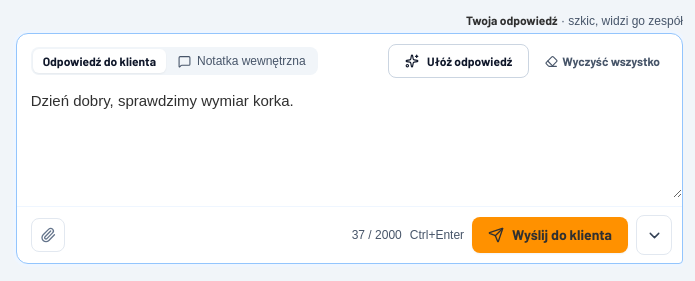
Test case: Szkic Copilota w edytorze › „Wyczyść wszystko” opróżnia pole, a „Cofnij wyczyszczenie” oddaje tekst
Click the button "Wyczyść wszystko" at (603, 61), box [537,45,668,77]
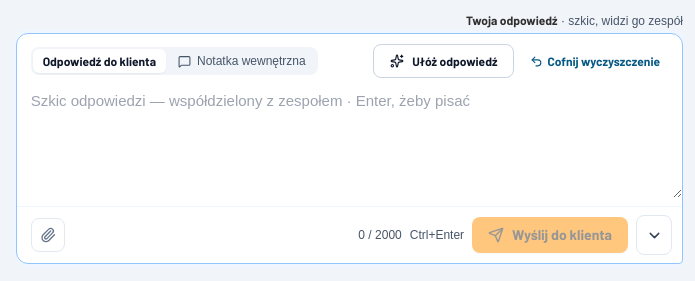
Expected: the text box labelled "Szkic odpowiedzi" is empty, [17,78,682,198]
Expected: the button "Wyczyść wszystko" is gone
Click the button "Cofnij wyczyszczenie" at (595, 61), box [522,45,668,77]
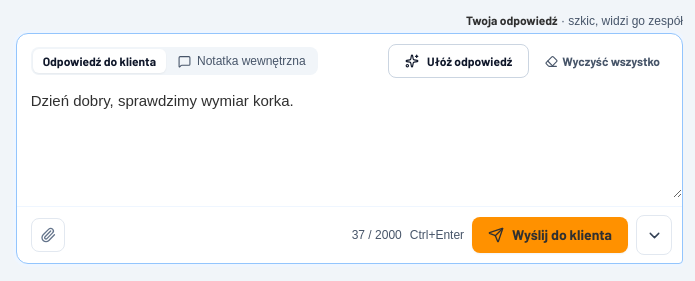
Expected: the text box named "Szkic odpowiedzi" holds "Dzień dobry, sprawdzimy wymiar korka.", [17,78,682,198]
Click the button "Wyczyść wszystko" at (603, 61), box [537,45,668,77]
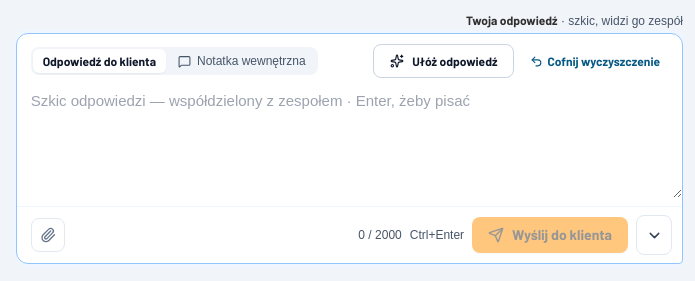
Type "N" into the text box labelled "Szkic odpowiedzi" at (349, 138), box [17,78,682,198]
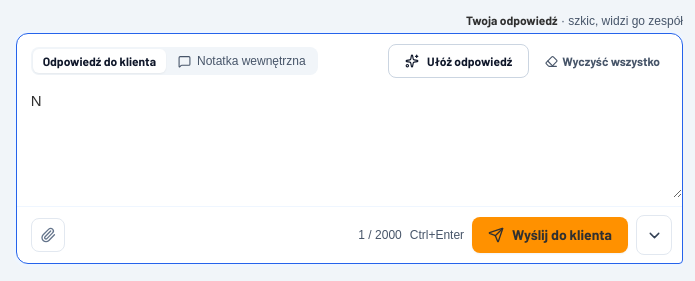
Expected: the button "Cofnij wyczyszczenie" is gone
